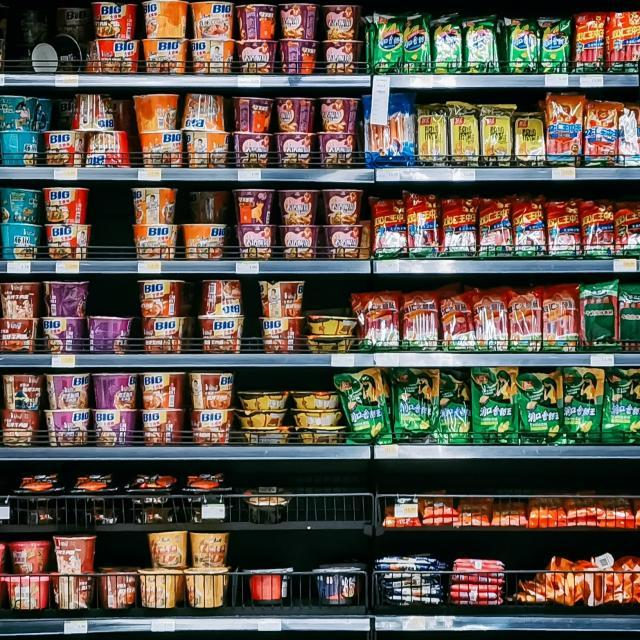Imprecise: (176, 181, 236, 265), (28, 0, 91, 71)
